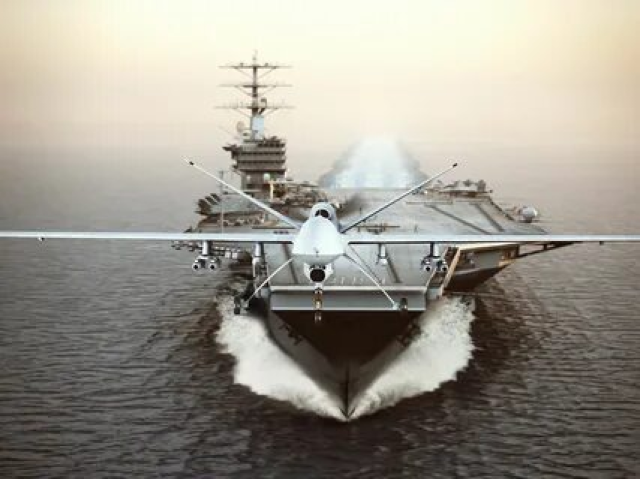military drone: (0, 157, 640, 325)
